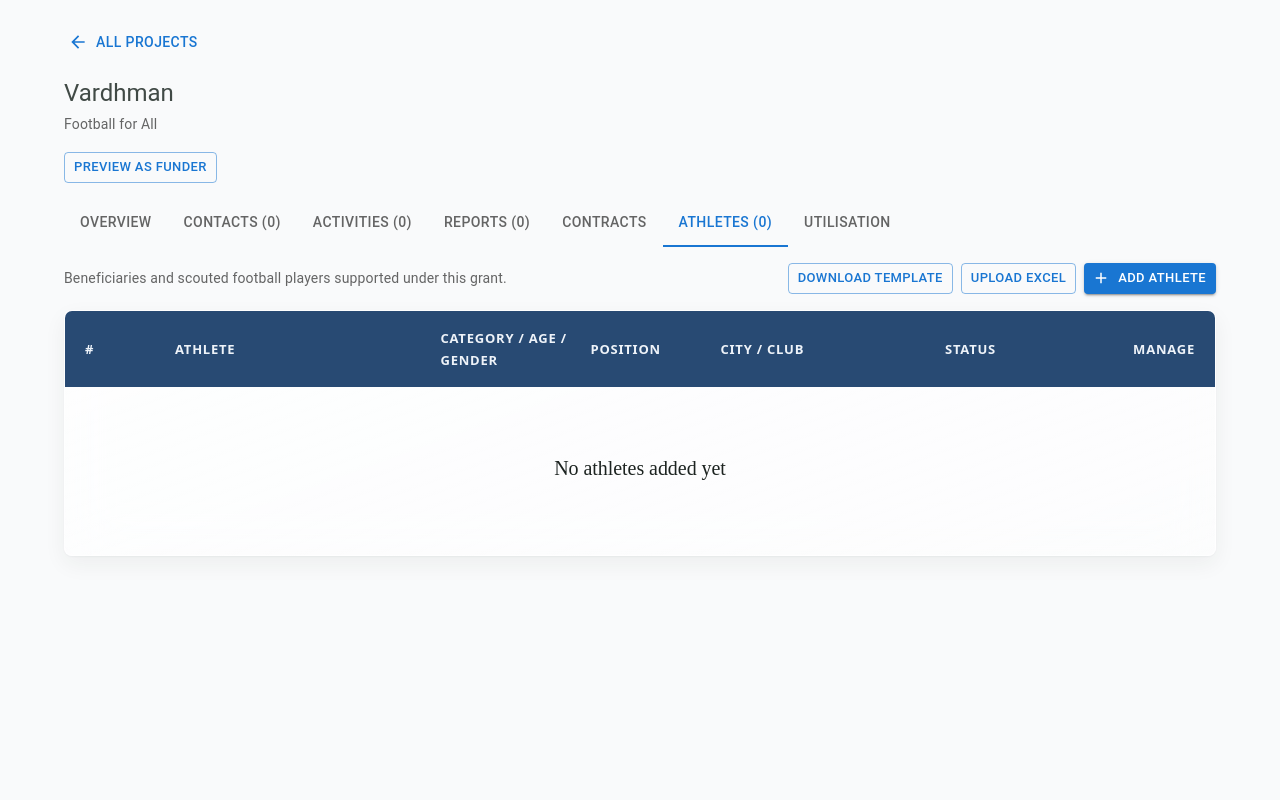
Test: the derived category uses the one style
The width and height of the screenshot is (1280, 800).
Click the button "Add Athlete": (1150, 278) [1084,263,1216,294]
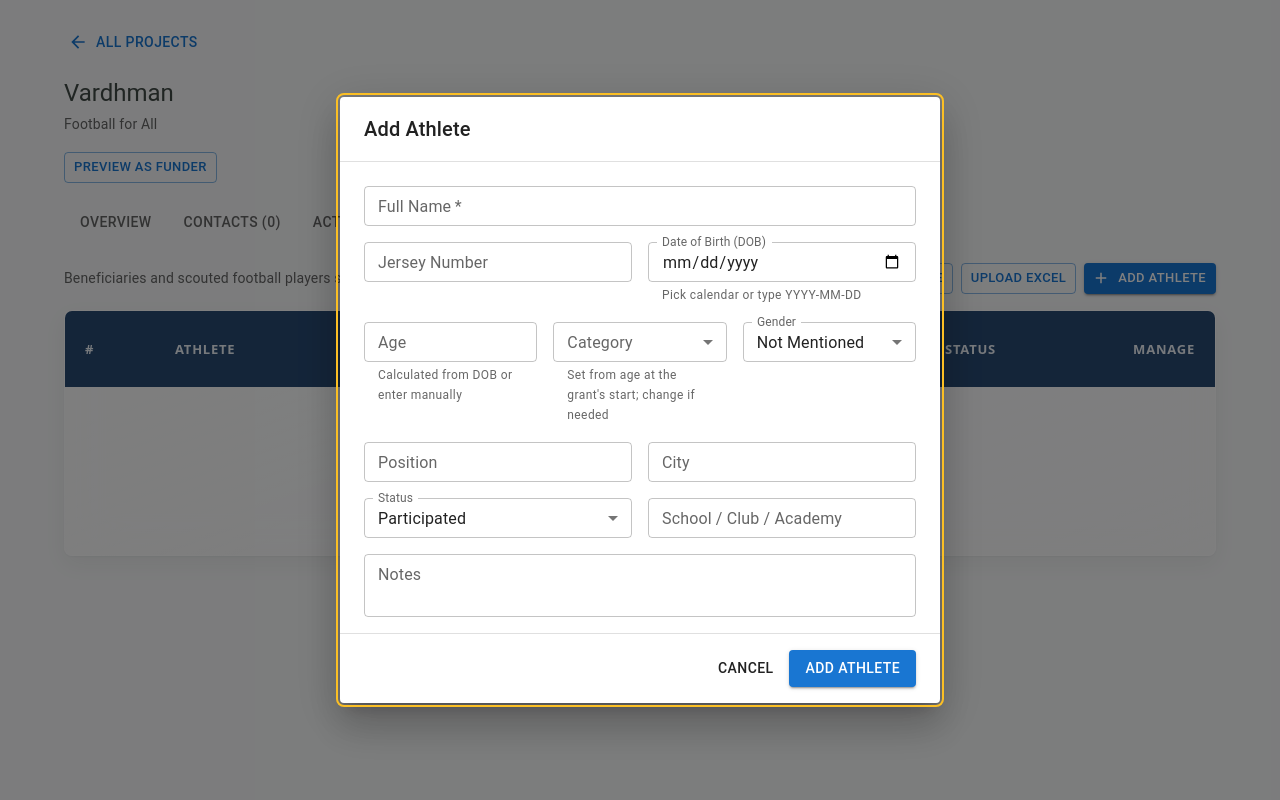
In the date field labelled "Date of Birth (DOB)": (782, 262) [648,242,916,282], type "2015-01-10"
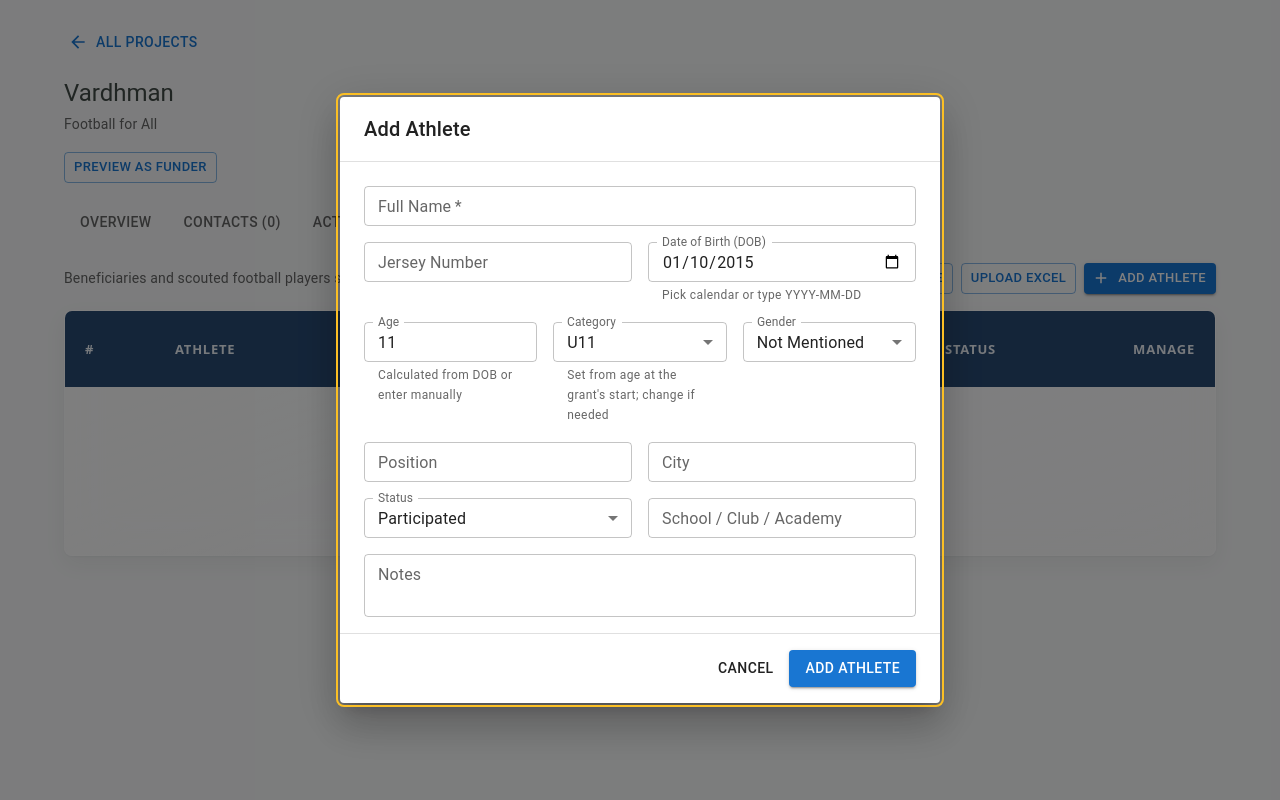
Now the dropdown named "Category" reads "U11", box [567,333,596,352]
